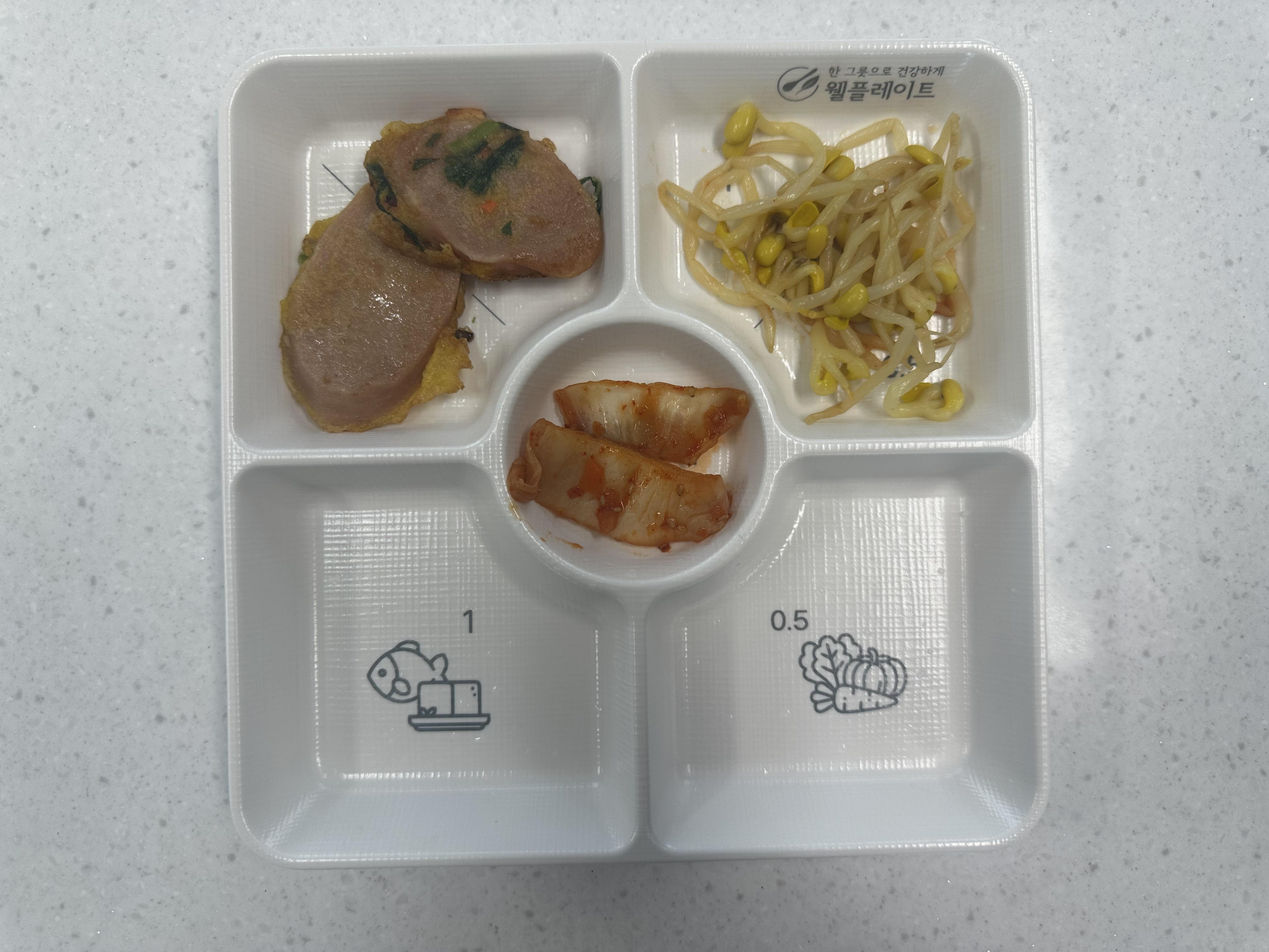food: (709, 504, 1154, 757), (676, 205, 1125, 444), (691, 210, 1127, 454), (706, 495, 1136, 729), (527, 386, 804, 558), (538, 383, 763, 565)
